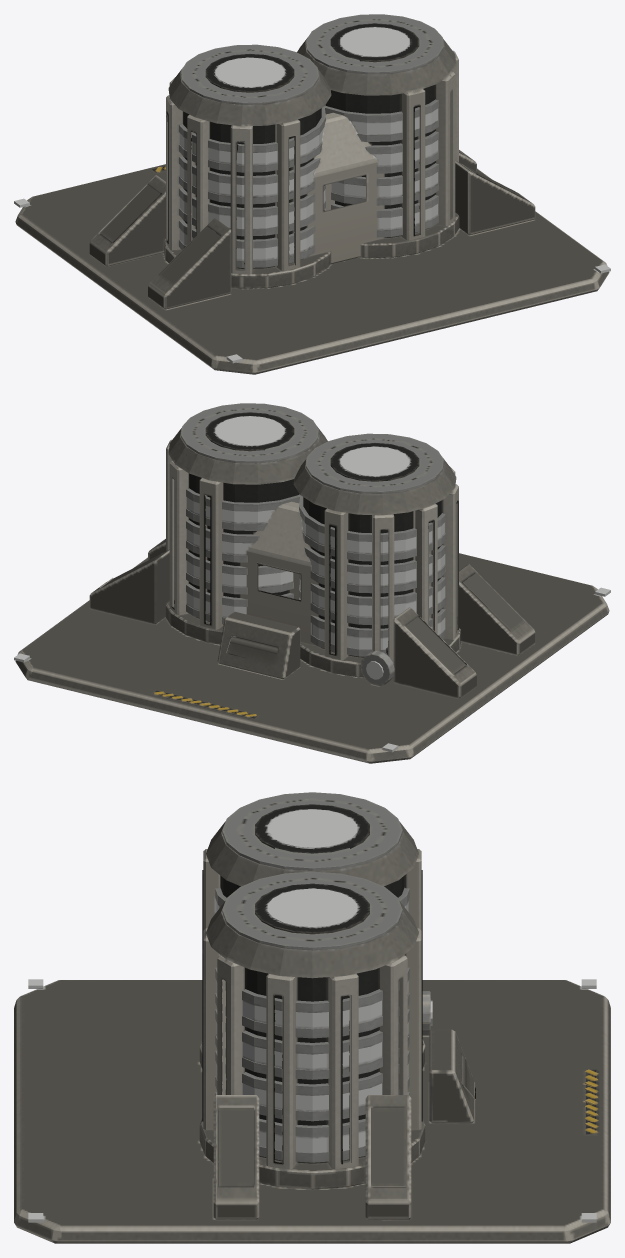
File: ord_advcapacitor.fbx
The picture shows the model from 3 angles, top to bottom: view 1: azimuth 30°, elevation 25°; view 2: azimuth 150°, elevation 25°; view 3: azimuth 270°, elevation 25°; orthographic projection. The views are drawn at different scales.
Visible parts, largest first — view 1: base_bar, cells_bar, cells_glow_power_bar, base_glow_power_bar; view 2: base_bar, cells_bar, cells_glow_power_bar, base_glow_power_bar, base_glow_running_bar; view 3: base_bar, cells_bar, cells_glow_power_bar, base_glow_power_bar, base_glow_running_bar.
Boxes of the visible parts, x1,y1,x2,y2 form: base_bar: (15,14,609,374); cells_bar: (179,99,438,267); cells_glow_power_bar: (179,108,438,260); base_glow_power_bar: (215,27,409,87); base_bar: (15,403,609,763); cells_bar: (186,488,445,656); cells_glow_power_bar: (186,497,445,649); base_glow_power_bar: (215,416,409,476); base_glow_running_bar: (14,587,610,752); base_bar: (14,792,610,1243); cells_bar: (215,887,409,1162); cells_glow_power_bar: (216,901,408,1152); base_glow_power_bar: (267,809,357,927); base_glow_running_bar: (28,979,596,1222).
Bounding box in the file's own units: 2352 × 1290 × 2352.
2 materials, 2 textured.
